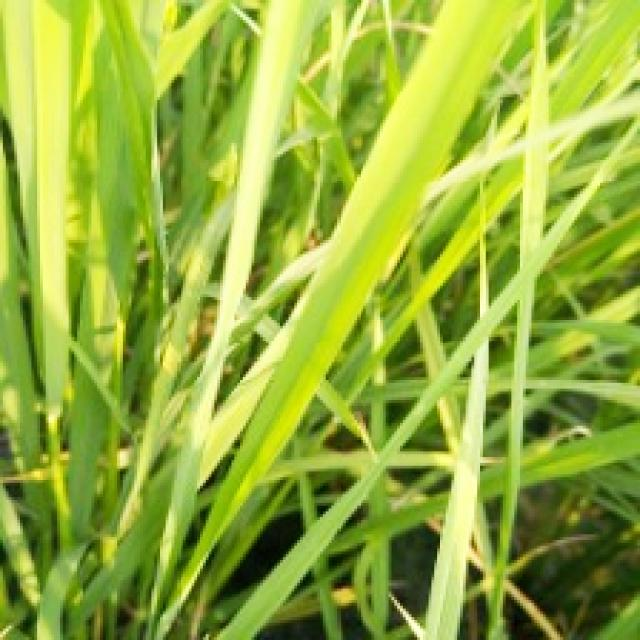health: (0, 3, 126, 403)
